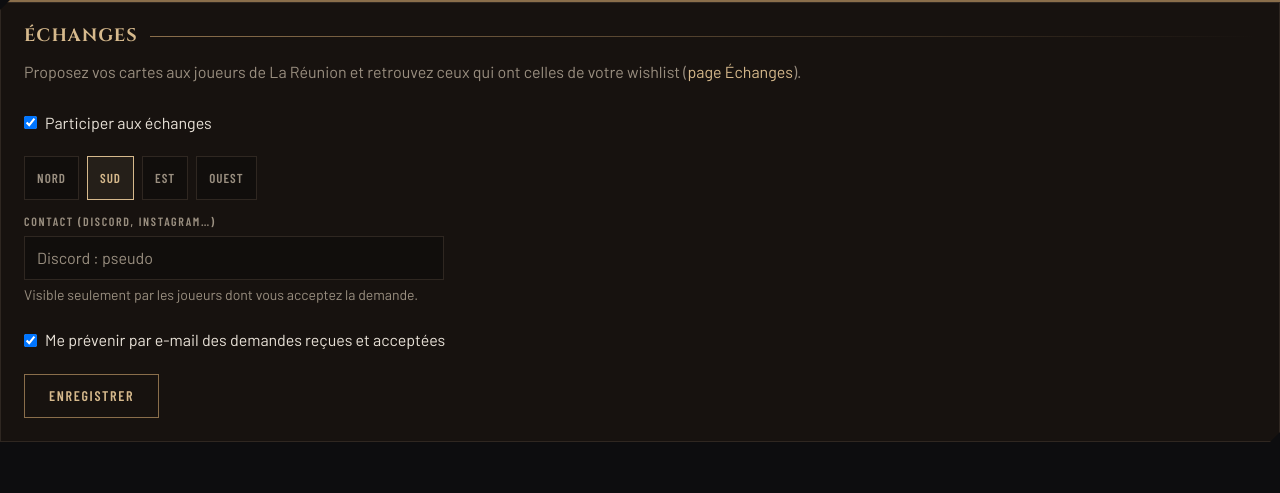
ProfileTrades › affiche le refus de l'API sans perdre la saisie
Click the button "Enregistrer".
click(92, 396)  # box [24,374,159,418]
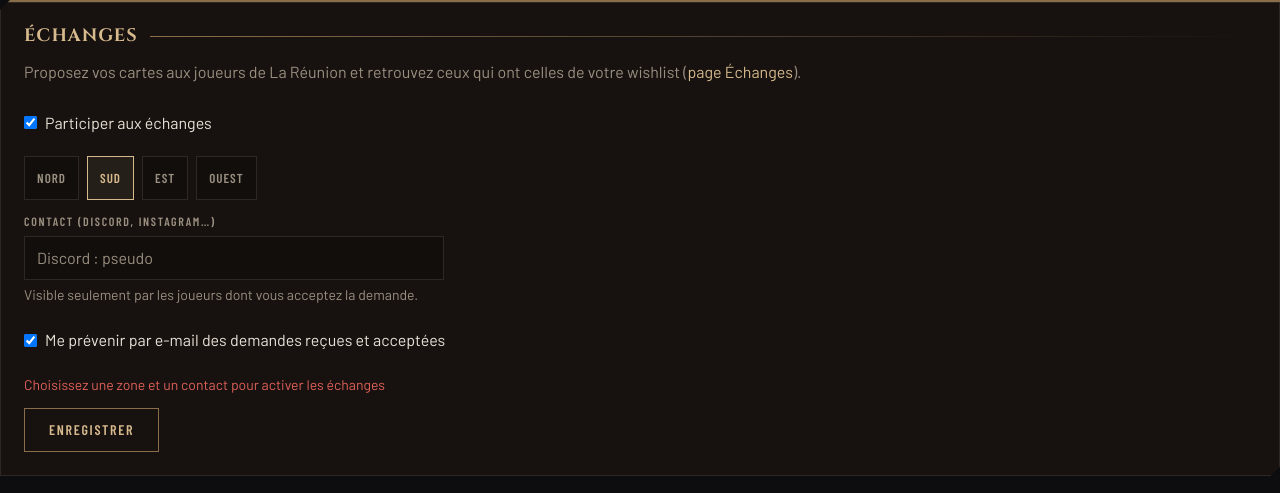
Expected: the message "Choisissez une zone et un contact pour activer les échanges" is shown, [24,374,385,396]
